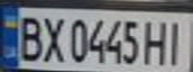0: (66, 13, 90, 64)
4: (87, 15, 109, 64), (103, 15, 124, 65)
5: (121, 16, 145, 65)
B: (12, 11, 45, 62)
H: (142, 16, 172, 66)
I: (163, 16, 193, 66)
X: (39, 12, 66, 63)
